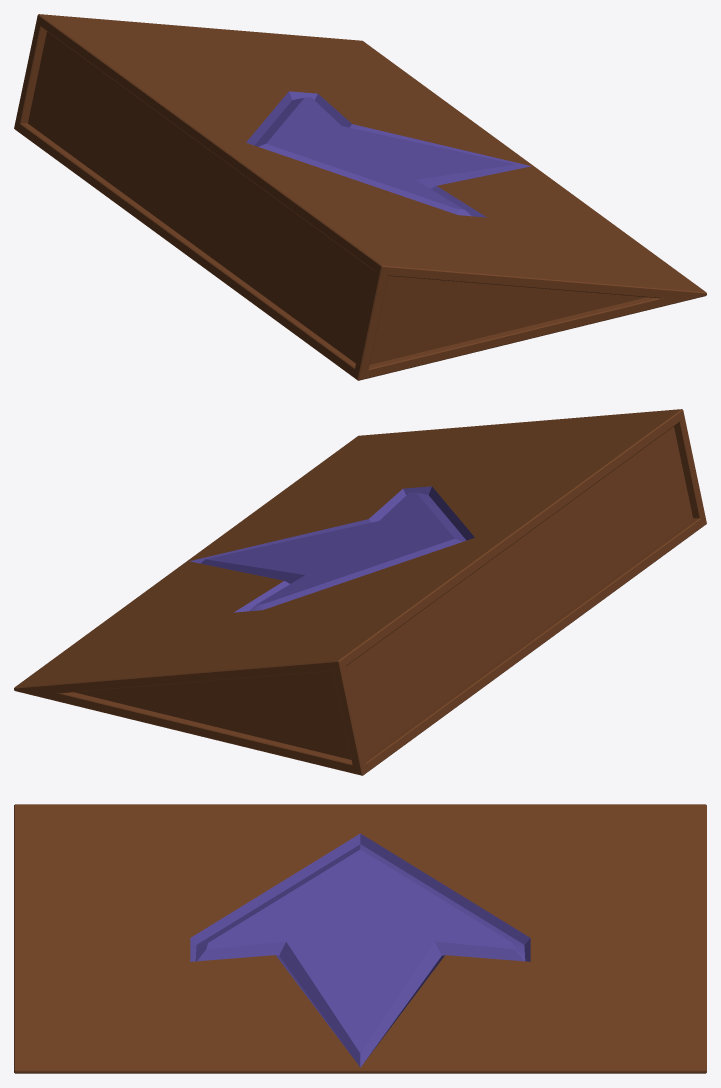
The model's file is Ramp_005_Track_001_Flat_002.fbx.
3 renders of one model, top to bottom at view 1: azimuth 30°, elevation 25°; view 2: azimuth 150°, elevation 25°; view 3: azimuth 270°, elevation 25°, orthographic.
Visible parts, largest first — view 1: Ramp_005_Track_001_Flat_002; view 2: Ramp_005_Track_001_Flat_002; view 3: Ramp_005_Track_001_Flat_002.
Boxes of the visible parts, x1=… form: Ramp_005_Track_001_Flat_002: x1=14, y1=14, x2=706, y2=380; Ramp_005_Track_001_Flat_002: x1=14, y1=409, x2=706, y2=775; Ramp_005_Track_001_Flat_002: x1=14, y1=804, x2=706, y2=1073.
Bounding box in the file's own units: 703 × 211 × 1201.
